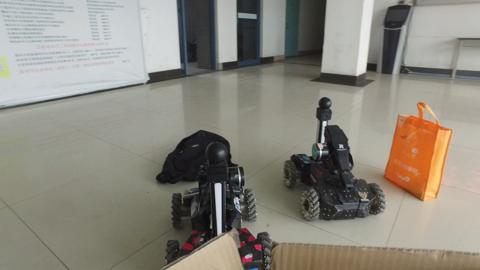bag: (386, 100, 445, 198)
chariot: (282, 97, 387, 223), (168, 145, 265, 252)
